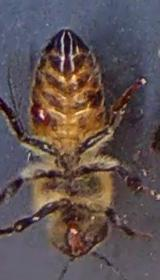varroa_mite: (28, 98, 54, 130)
